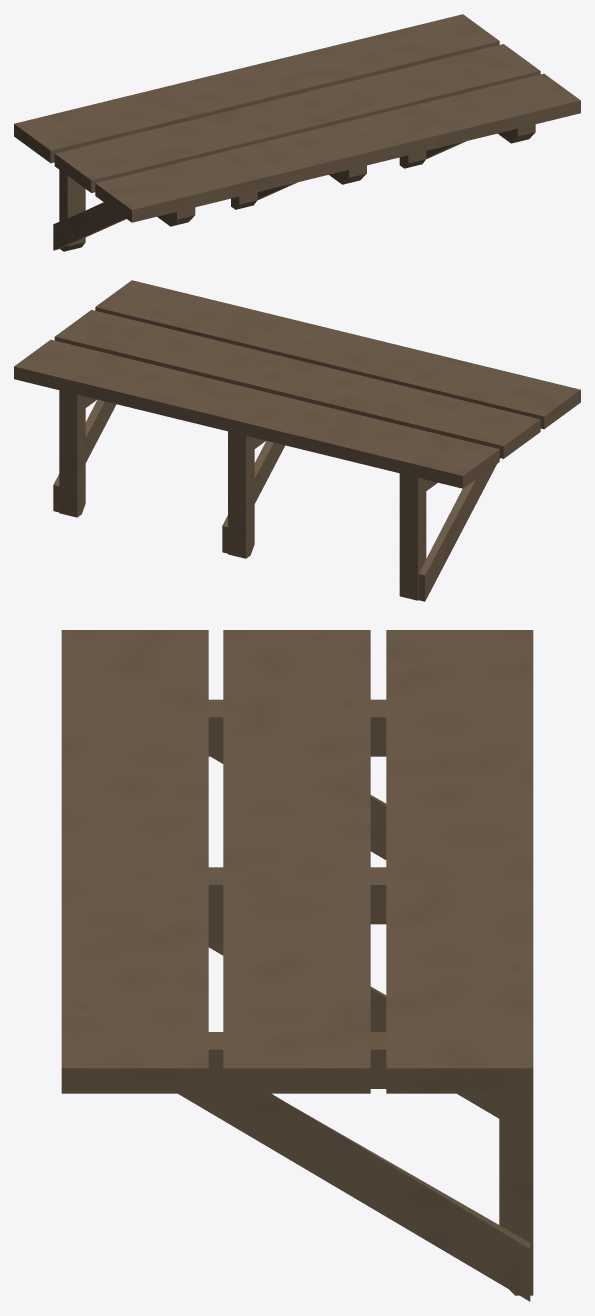
File: Shelve.fbx
The picture shows the model from 3 angles, top to bottom: view 1: azimuth 30°, elevation 25°; view 2: azimuth 150°, elevation 25°; view 3: azimuth 270°, elevation 25°; orthographic projection. The views are drawn at different scales.
Visible parts, largest first — view 1: Cube.017; view 2: Cube.017; view 3: Cube.017.
Boxes of the visible parts, left/top/right/bottom form: Cube.017: left=14, top=14, right=580, bottom=251; Cube.017: left=14, top=280, right=580, bottom=601; Cube.017: left=61, top=630, right=533, bottom=1301.
Size of the model in its own units: 215 by 62.18 by 97.93.
